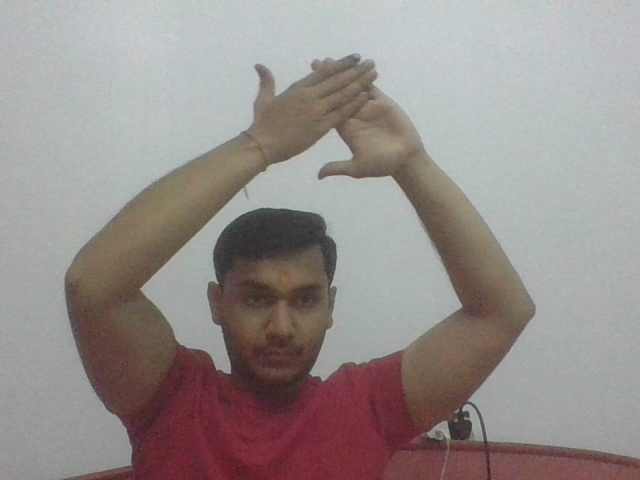H: (250, 47, 427, 181)
